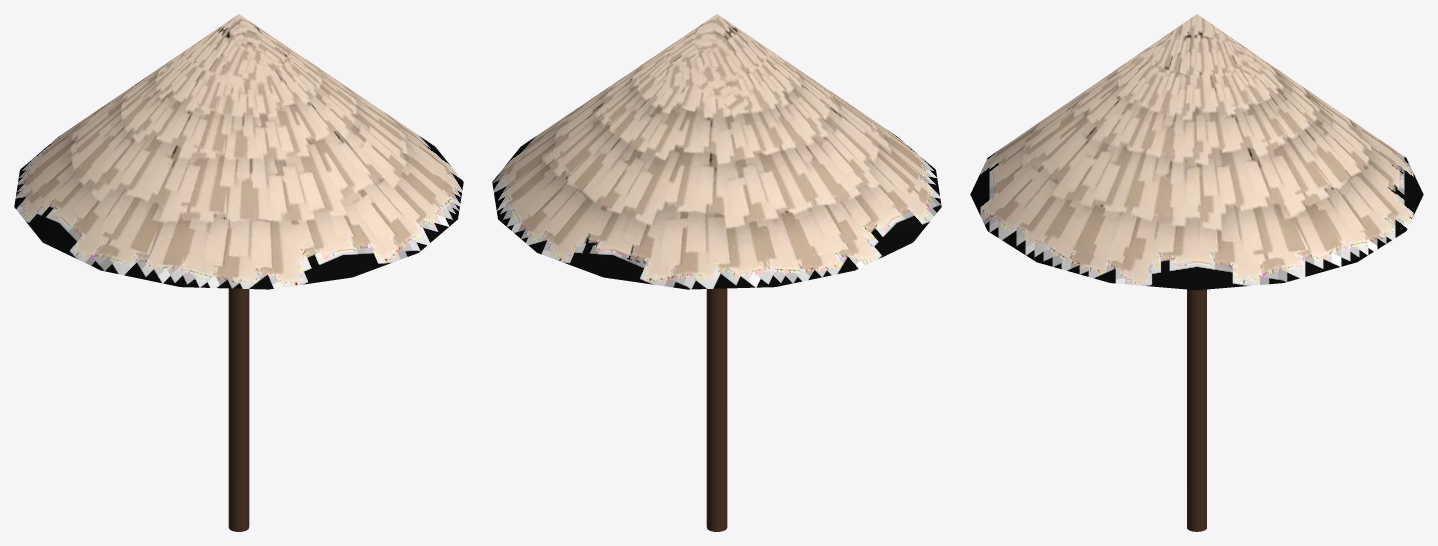
File: 936irBEUnpu.glb
3 renders of one model, left to right at view 1: azimuth 30°, elevation 25°; view 2: azimuth 150°, elevation 25°; view 3: azimuth 270°, elevation 25°, orthographic.
Visible parts, largest first — view 1: Beach_Umbrella; view 2: Beach_Umbrella; view 3: Beach_Umbrella.
Boxes of the visible parts, x1,y1,x2,y2 form: Beach_Umbrella: (14, 14, 463, 531); Beach_Umbrella: (492, 14, 941, 531); Beach_Umbrella: (970, 14, 1423, 531).
Size of the model in its own units: 0.7999 by 1 by 0.7999.
Materials: 2 (2 with a texture image).
